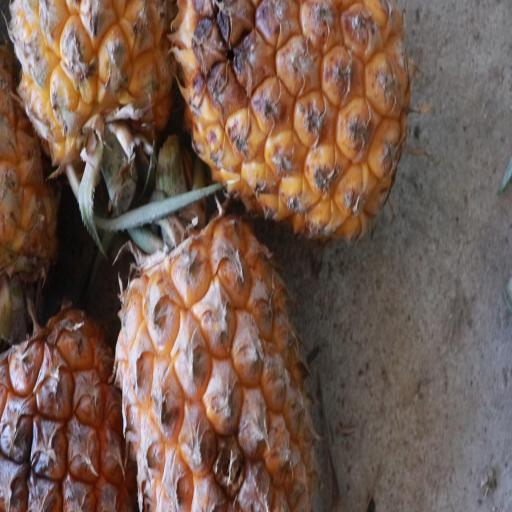Pineapple - v8 v1: (164, 0, 414, 252), (113, 211, 313, 512), (4, 0, 171, 217), (0, 298, 133, 511)
